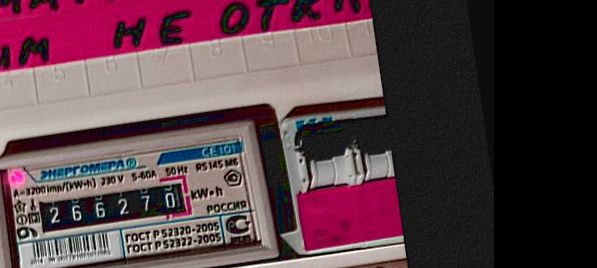0: (163, 189, 177, 211)
2: (47, 204, 64, 226), (116, 196, 131, 217)
6: (70, 203, 84, 224), (94, 199, 108, 220)
7: (139, 193, 154, 213)
screen: (24, 167, 204, 247)
